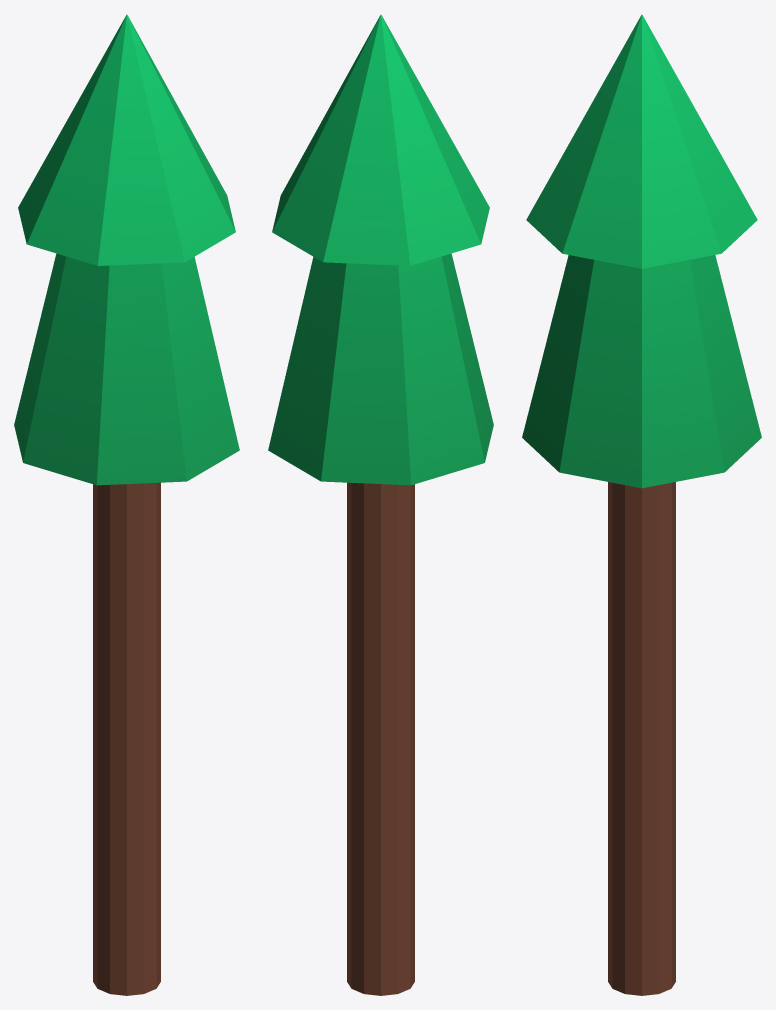
Rendered from Tree_21_gradient_green_vc.fbx.
3 views of the same model, side by side, from view 1: azimuth 30°, elevation 25°; view 2: azimuth 150°, elevation 25°; view 3: azimuth 270°, elevation 25° (orthographic).
Parts seen in each view (by area): view 1: Tree_21_gradient_green_vc; view 2: Tree_21_gradient_green_vc; view 3: Tree_21_gradient_green_vc.
Part boxes in pixels (left/top/right/bottom): Tree_21_gradient_green_vc: left=14, top=14, right=239, bottom=995; Tree_21_gradient_green_vc: left=268, top=14, right=493, bottom=995; Tree_21_gradient_green_vc: left=522, top=14, right=761, bottom=995.
Bounding box in the file's own units: 77.92 × 347 × 77.92.
